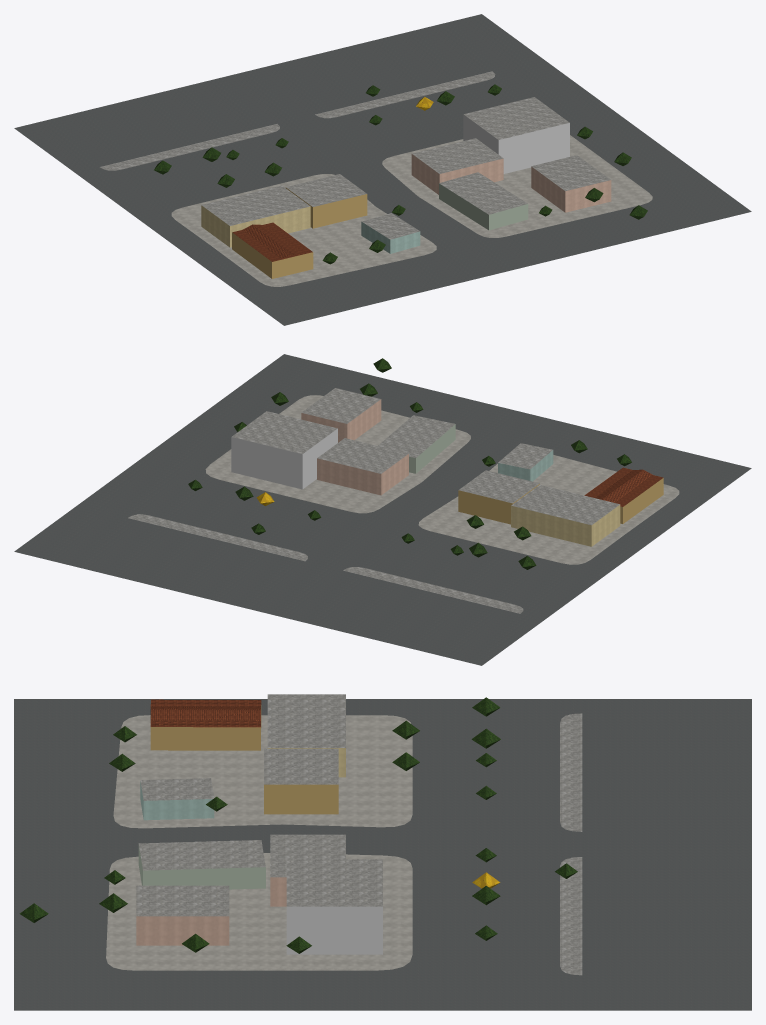
File: cidade_S03_02_lod.gltf
3 renders of one model, top to bottom at view 1: azimuth 30°, elevation 25°; view 2: azimuth 150°, elevation 25°; view 3: azimuth 270°, elevation 25°, orthographic. The views are drawn at different scales.
Parts seen in each view (by area): view 1: S03_02_Chao_LOD2, S03_02_Edificios_LOD1, S03_02_Vegetacao_LOD2, S03_02_Silhueta_LOD2; view 2: S03_02_Chao_LOD2, S03_02_Edificios_LOD1, S03_02_Vegetacao_LOD2, S03_02_Silhueta_LOD2; view 3: S03_02_Chao_LOD2, S03_02_Edificios_LOD1, S03_02_Vegetacao_LOD2, S03_02_Silhueta_LOD2.
Part boxes in pixels (x1=…): S03_02_Chao_LOD2: x1=14, y1=14, x2=751, y2=325; S03_02_Edificios_LOD1: x1=201, y1=97, x2=611, y2=278; S03_02_Vegetacao_LOD2: x1=154, y1=84, x2=647, y2=264; S03_02_Silhueta_LOD2: x1=232, y1=222, x2=313, y2=278; S03_02_Chao_LOD2: x1=14, y1=354, x2=751, y2=665; S03_02_Edificios_LOD1: x1=231, y1=388, x2=663, y2=546; S03_02_Vegetacao_LOD2: x1=188, y1=358, x2=631, y2=569; S03_02_Silhueta_LOD2: x1=584, y1=467, x2=663, y2=522; S03_02_Chao_LOD2: x1=14, y1=699, x2=751, y2=1010; S03_02_Edificios_LOD1: x1=136, y1=694, x2=382, y2=954; S03_02_Vegetacao_LOD2: x1=19, y1=697, x2=577, y2=953; S03_02_Silhueta_LOD2: x1=150, y1=699, x2=261, y2=750.
Size of the model in its own units: 100 by 7.37 by 100.
12 materials, 12 textured.
